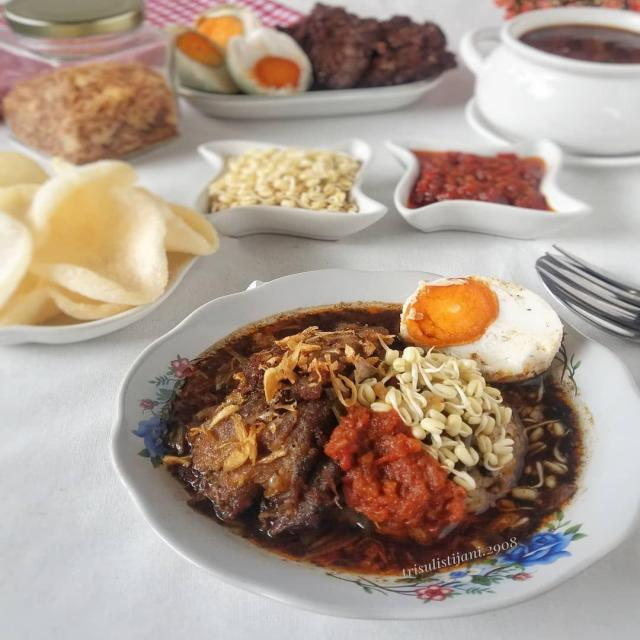Rawon: (158, 279, 580, 548)
